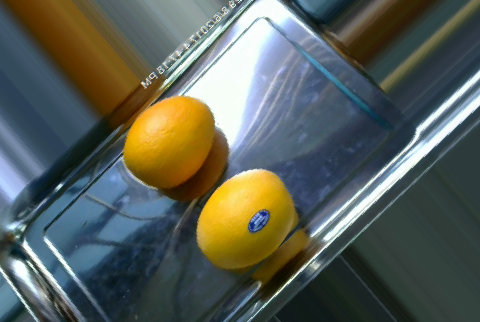Orange: (193, 167, 296, 268), (123, 96, 214, 188)
